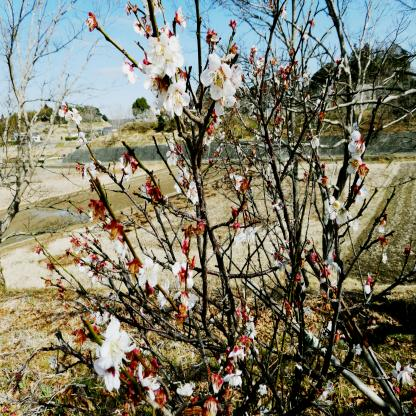Ume: (33, 0, 416, 416)
